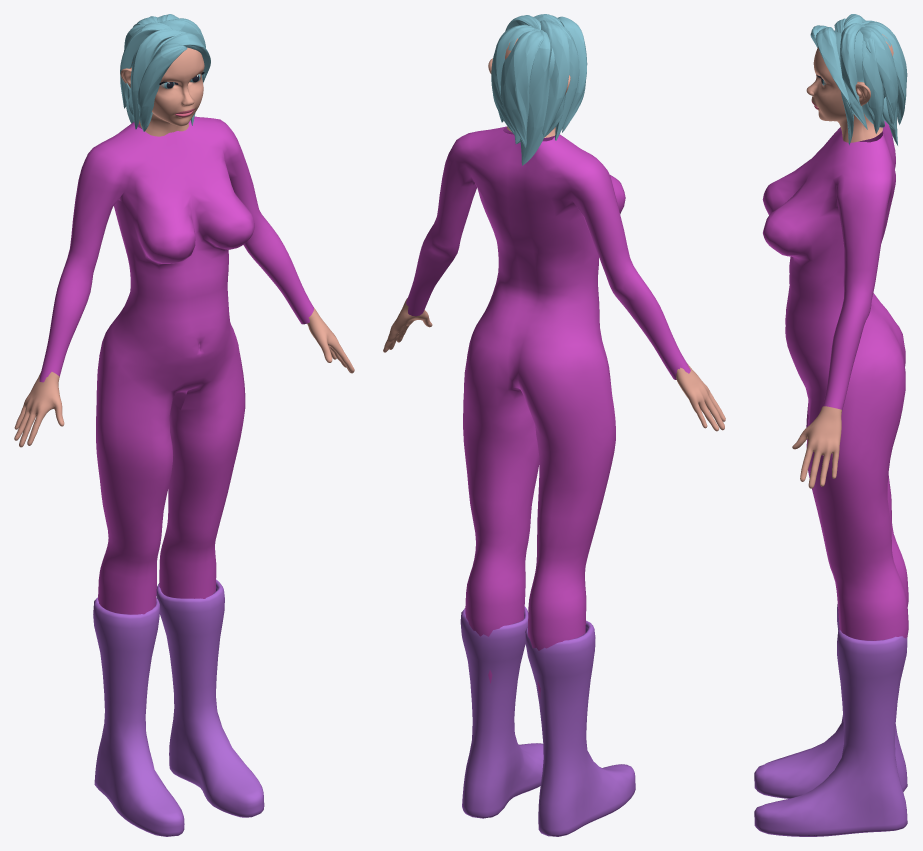
The model's file is 02-MISTURADO FULL.fbx.
The picture shows the model from 3 angles, left to right: view 1: azimuth 30°, elevation 25°; view 2: azimuth 150°, elevation 25°; view 3: azimuth 270°, elevation 25°; orthographic projection. The views are drawn at different scales.
Parts seen in each view (by area): view 1: Cylinder, CABELO; view 2: Cylinder, CABELO; view 3: Cylinder, CABELO.
Boxes of the visible parts, left/top/right/bottom form: Cylinder: left=14, top=22, right=354, bottom=836; CABELO: left=120, top=14, right=210, bottom=131; Cylinder: left=383, top=24, right=725, bottom=836; CABELO: left=491, top=14, right=587, bottom=165; Cylinder: left=754, top=24, right=908, bottom=836; CABELO: left=810, top=14, right=907, bottom=145.
Size of the model in its own units: 68.83 by 154 by 27.26.
